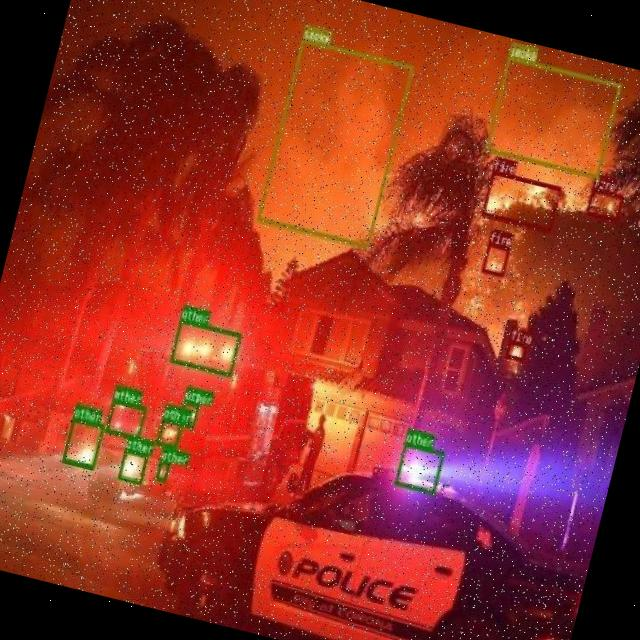smoke: (256, 38, 414, 248), (484, 54, 621, 178)
